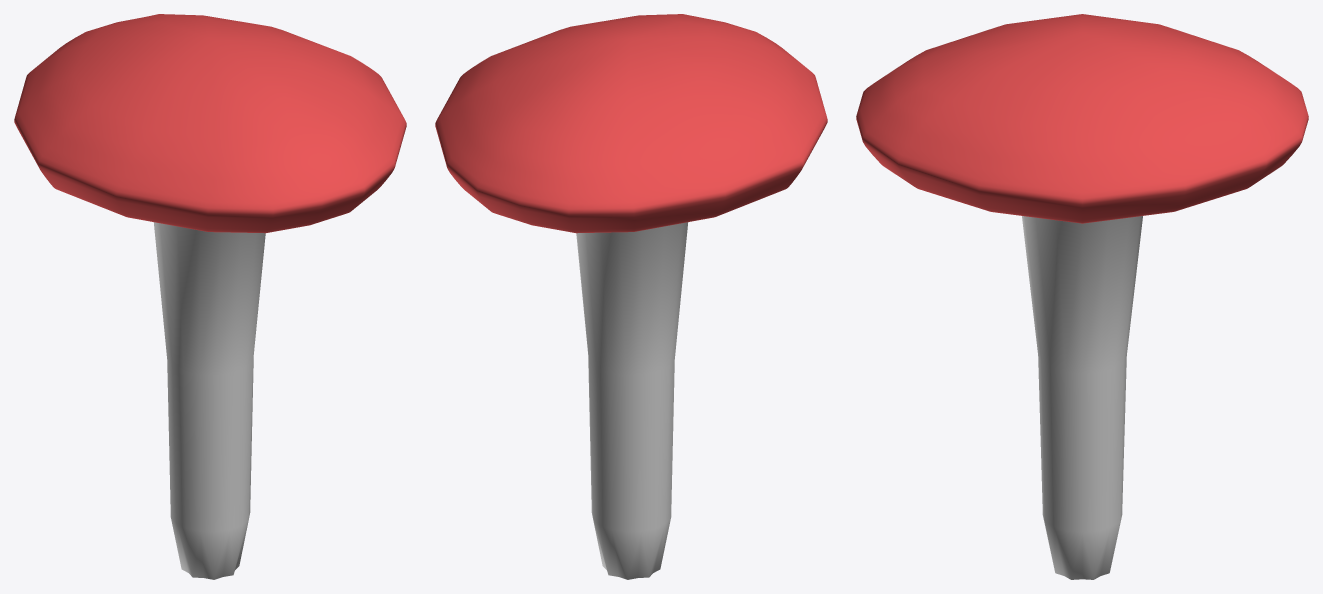
File: mushroom.fbx
The picture shows the model from 3 angles, left to right: view 1: azimuth 30°, elevation 25°; view 2: azimuth 150°, elevation 25°; view 3: azimuth 270°, elevation 25°; orthographic projection.
Parts seen in each view (by area): view 1: Mushroom; view 2: Mushroom; view 3: Mushroom.
Part boxes in pixels (x1,y1,x2,y2): Mushroom: (14,14,406,579); Mushroom: (435,14,827,579); Mushroom: (856,14,1308,579).
Size of the model in its own units: 2.55 by 3.74 by 2.87.
